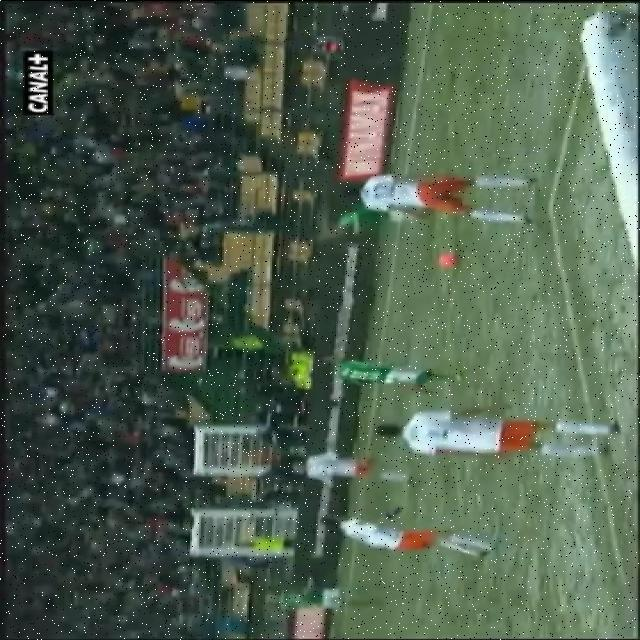ball: (415, 242, 490, 276)
player: (382, 399, 614, 475), (278, 503, 538, 553), (286, 340, 507, 382), (341, 170, 549, 210), (296, 204, 443, 247), (281, 447, 439, 483)
